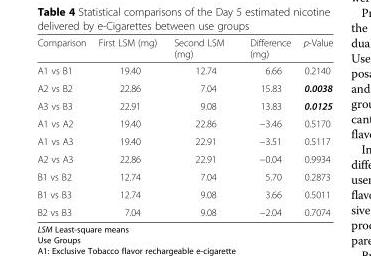table: (36, 36, 332, 217)
table column: (91, 36, 164, 217), (164, 36, 236, 217), (236, 36, 296, 217), (36, 36, 91, 217), (296, 36, 332, 217)
table column header: (36, 36, 332, 61)
table row: (36, 36, 332, 61), (36, 78, 332, 96), (36, 96, 332, 114), (36, 131, 332, 149), (36, 149, 332, 167), (36, 167, 332, 185), (36, 61, 332, 78), (36, 114, 332, 131), (36, 185, 332, 202), (36, 202, 332, 217)
